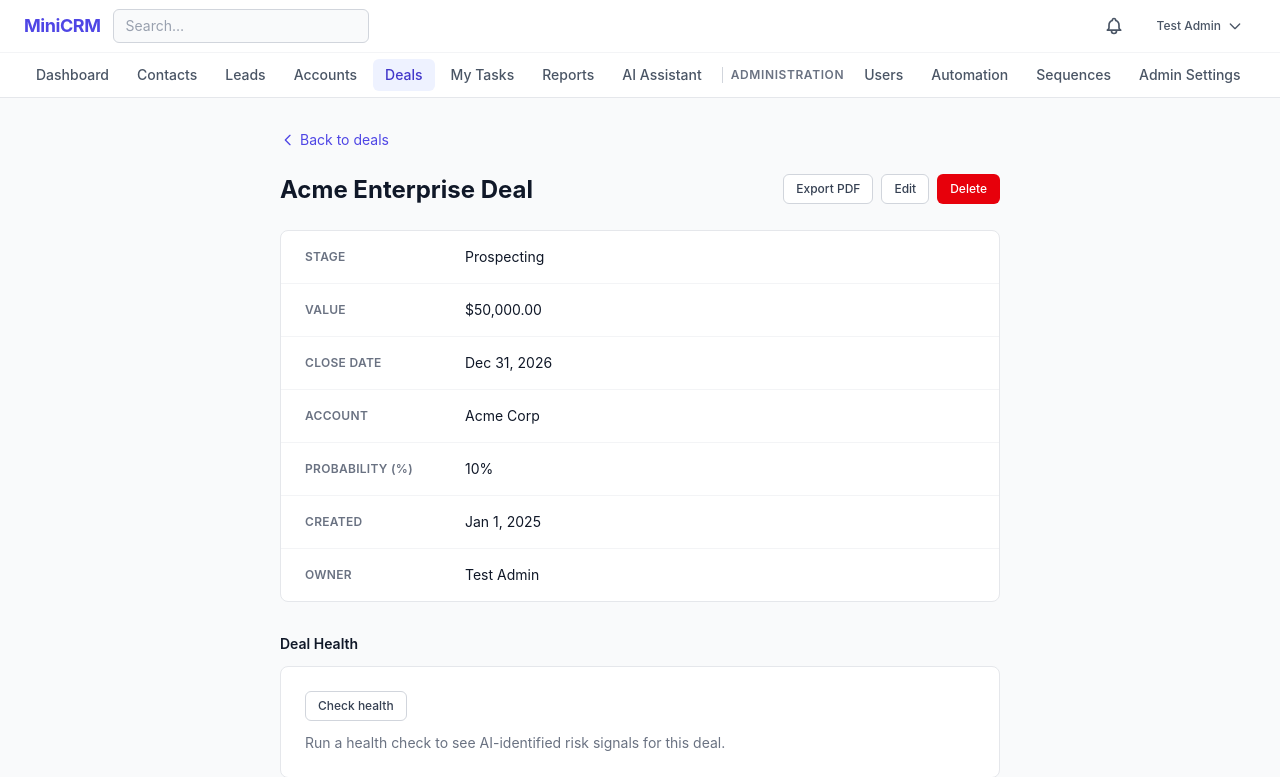
Scenario: DealDetailPage › runs a health check and renders the status badge, narrative, and next actions
Click the button with test id "run-deal-health-check-button".
click(356, 706)  # box [305, 691, 407, 721]
(page scrolled)
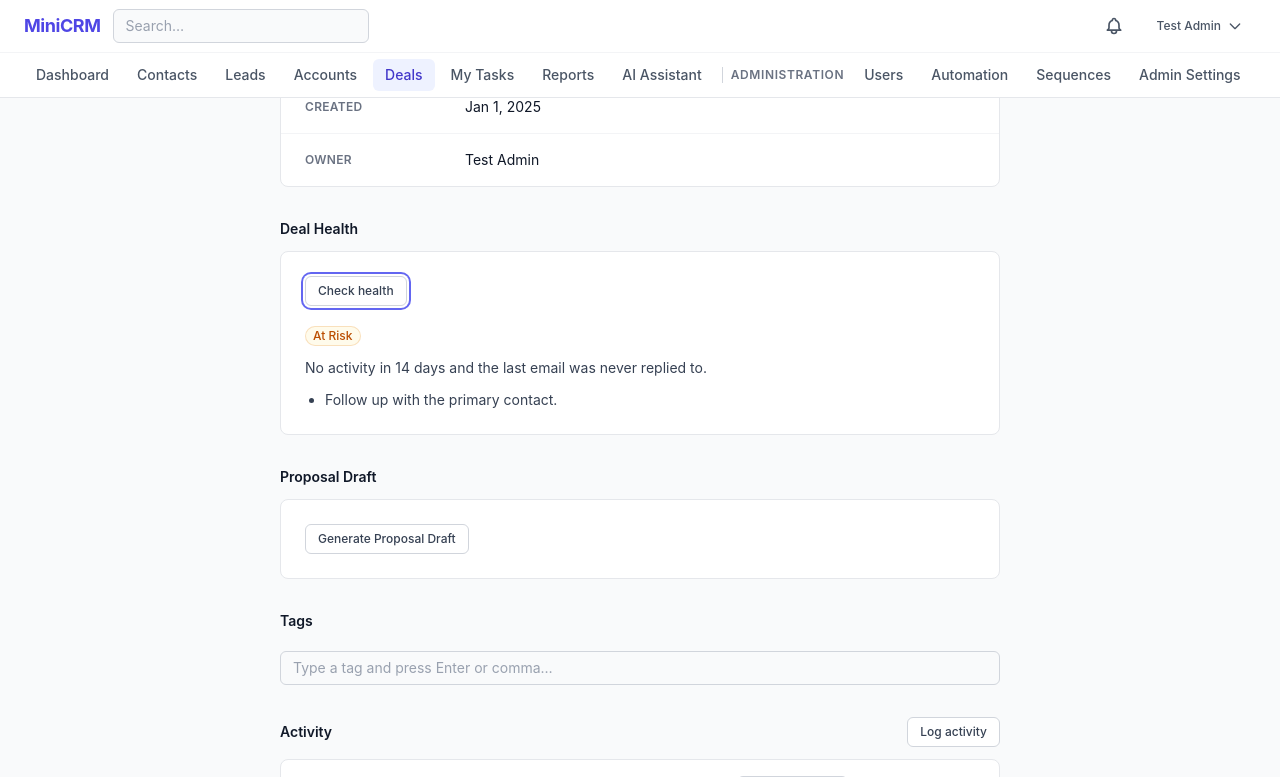
Result: the element with test id "deal-health-result" is shown at [305, 326, 707, 408]
Result: the text "At Risk" is shown at [305, 326, 360, 346]
Result: the text with test id "deal-health-narrative" shows "No activity in 14 days" at [305, 359, 707, 376]
